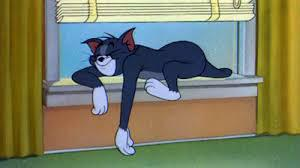tom: (70, 26, 233, 158)
